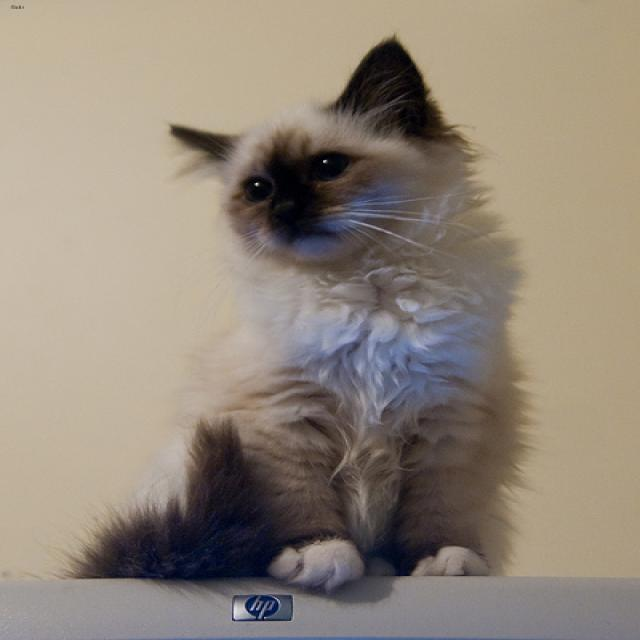cat: (170, 37, 444, 259)
